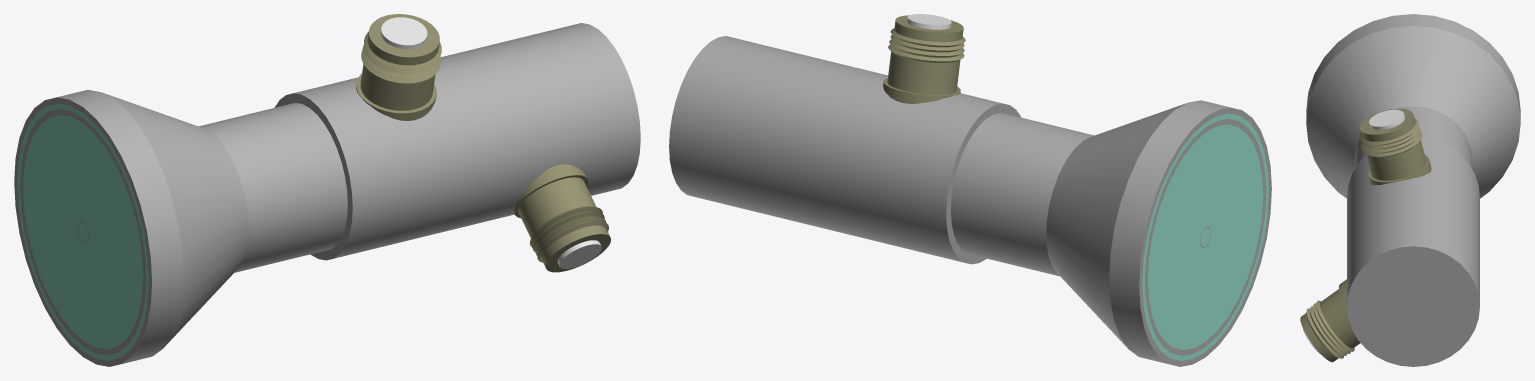
The model's file is FeedHorn - Sin booleano.glb.
The picture shows the model from 3 angles, left to right: view 1: azimuth 30°, elevation 25°; view 2: azimuth 150°, elevation 25°; view 3: azimuth 270°, elevation 25°; orthographic projection. The views are drawn at different scales.
Visible parts, largest first — view 1: Cilindro, Cilindro.004, Cilindro.001, Cilindro.002, Cilindro.003; view 2: Cilindro, Cilindro.001, Cilindro.002; view 3: Cilindro, Cilindro.001, Cilindro.004, Cilindro.002.
Part boxes in pixels (box(x1,y1,x2,y2)): Cilindro: box(14, 23, 640, 366); Cilindro.004: box(513, 164, 610, 272); Cilindro.001: box(356, 14, 441, 120); Cilindro.002: box(380, 17, 427, 48); Cilindro.003: box(557, 240, 601, 268); Cilindro: box(669, 36, 1271, 366); Cilindro.001: box(883, 15, 965, 103); Cilindro.002: box(907, 14, 951, 29); Cilindro: box(1306, 14, 1520, 366); Cilindro.001: box(1359, 108, 1431, 185); Cilindro.004: box(1300, 279, 1360, 362); Cilindro.002: box(1369, 109, 1404, 129).
Size of the model in its own units: 4.39 by 2.19 by 2.09.
